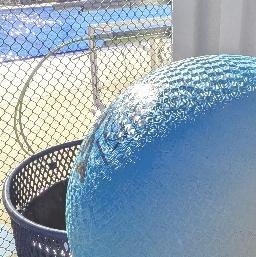algae: (65, 58, 256, 257)
